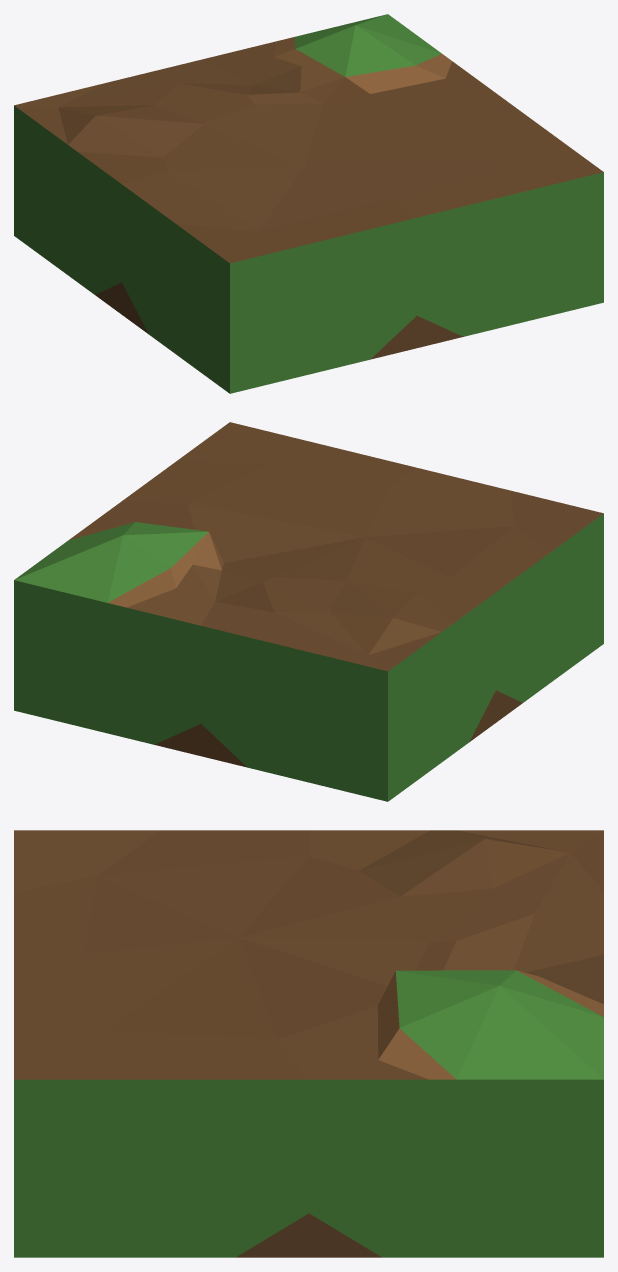
The model's file is grass_dirt_corner_4.fbx.
The picture shows the model from 3 angles, top to bottom: view 1: azimuth 30°, elevation 25°; view 2: azimuth 150°, elevation 25°; view 3: azimuth 270°, elevation 25°; orthographic projection. The views are drawn at different scales.
Parts seen in each view (by area): view 1: Dirt_Grass_Corner_4; view 2: Dirt_Grass_Corner_4; view 3: Dirt_Grass_Corner_4.
Boxes of the visible parts, x1,y1,x2,y2 form: Dirt_Grass_Corner_4: [14, 14, 603, 393]; Dirt_Grass_Corner_4: [14, 422, 603, 801]; Dirt_Grass_Corner_4: [14, 830, 603, 1257].
Size of the model in its own units: 300 by 148 by 300.
